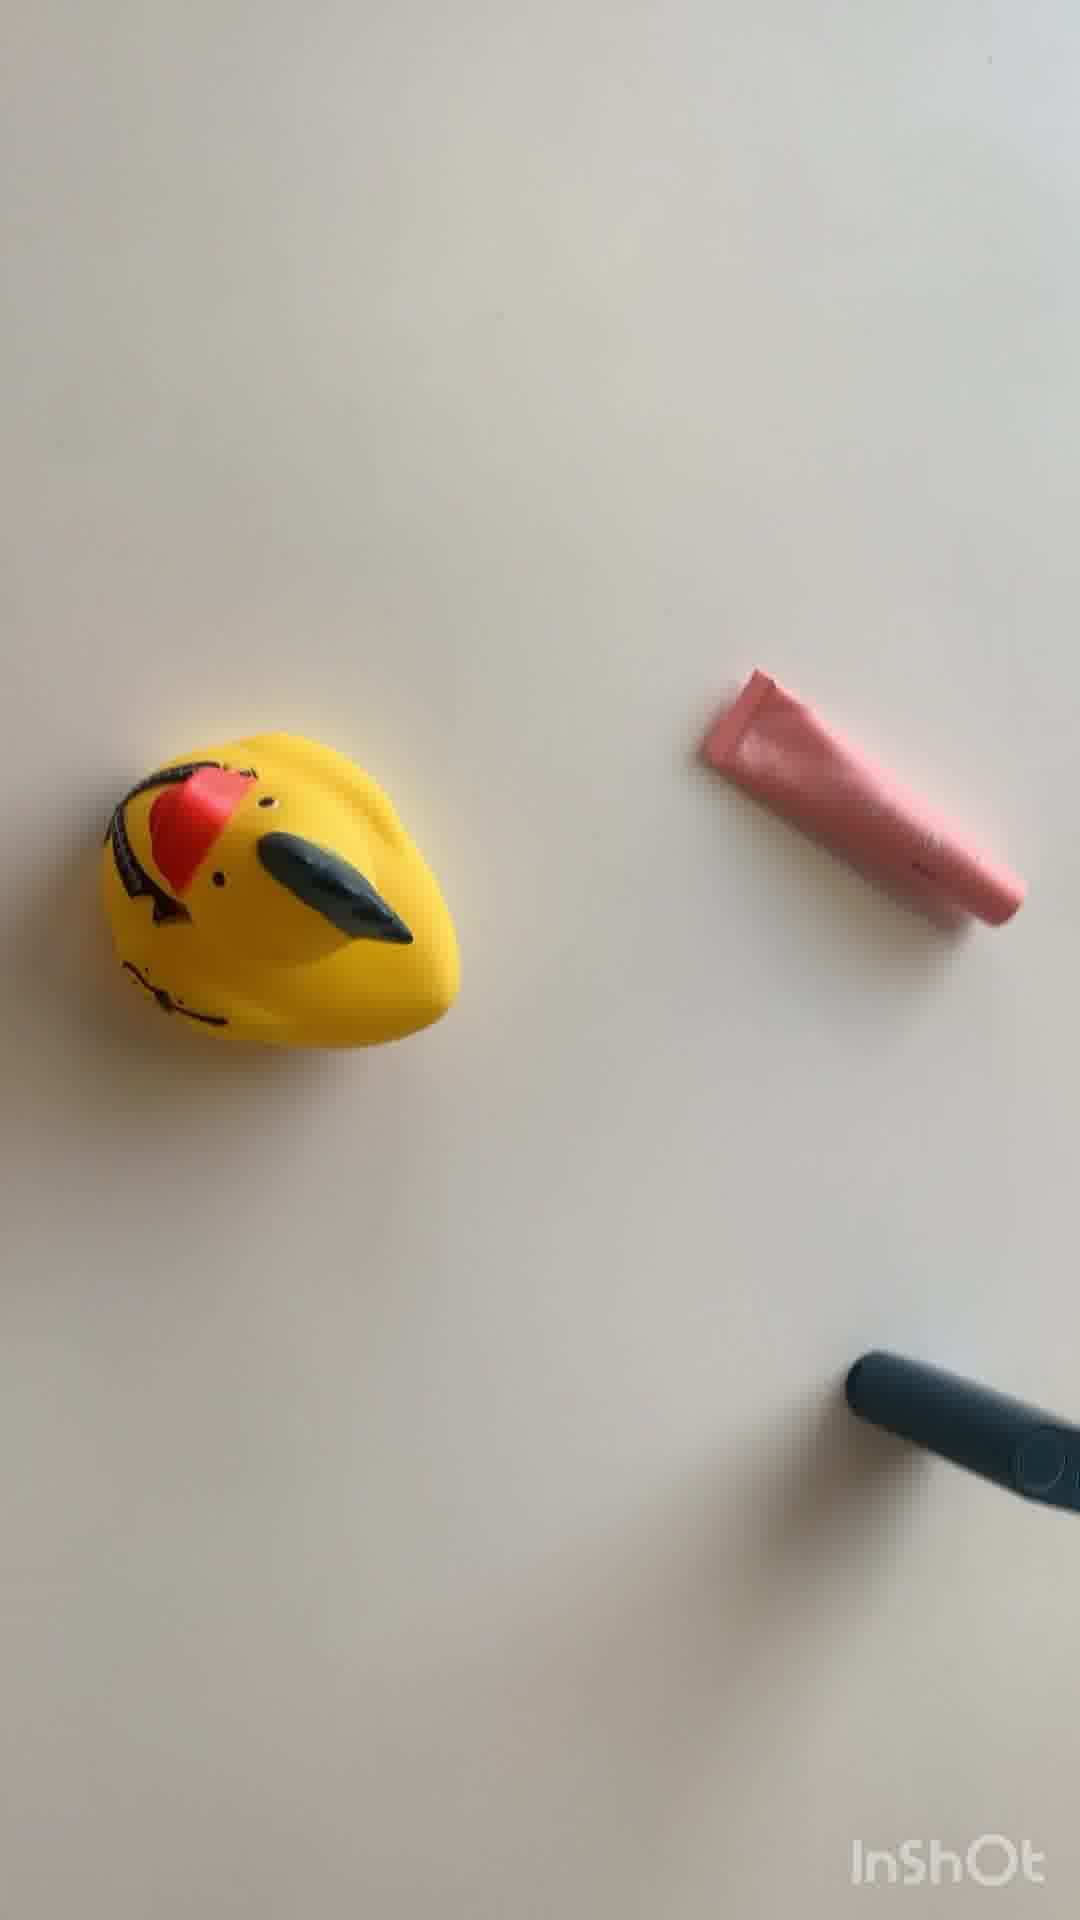duck: (80, 741, 456, 1052)
glo: (844, 1346, 1080, 1544)
lip balm: (676, 662, 1036, 931)
